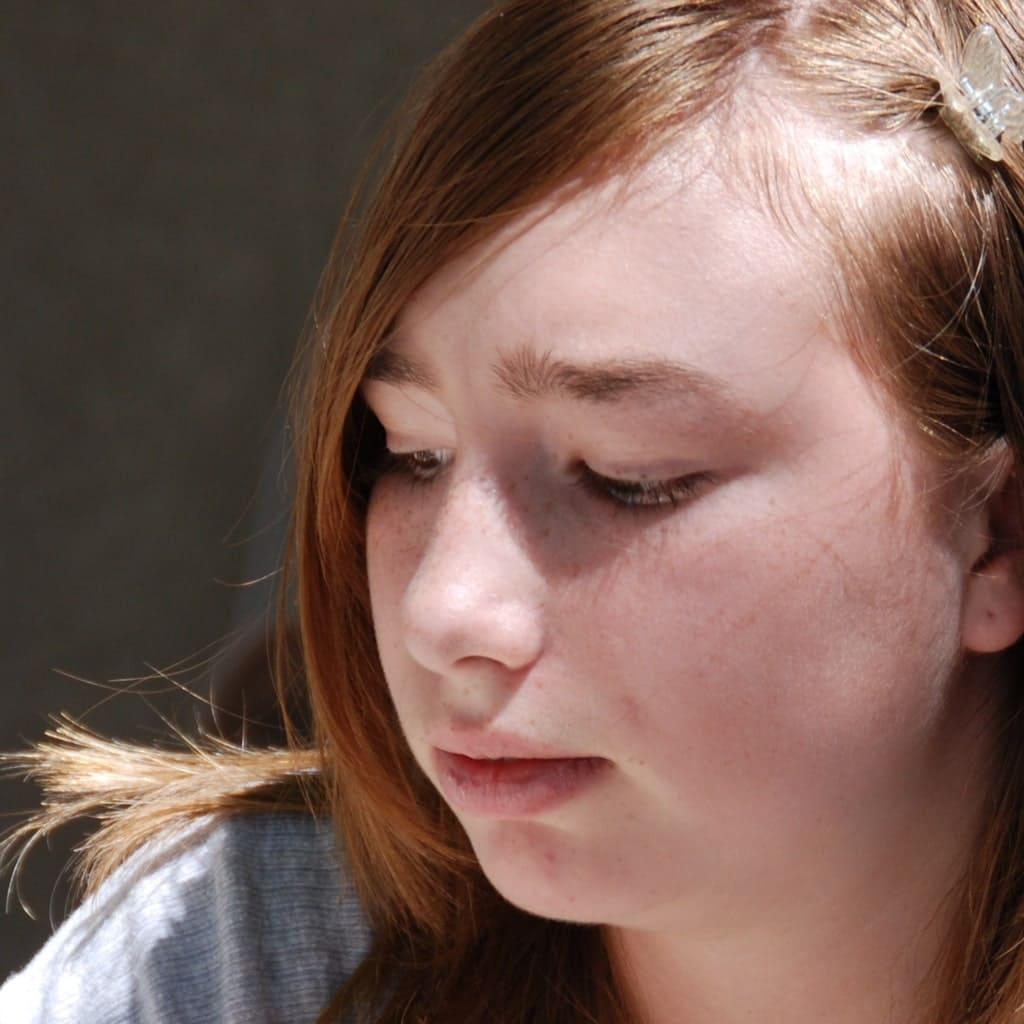without_mask: (338, 179, 914, 898)
